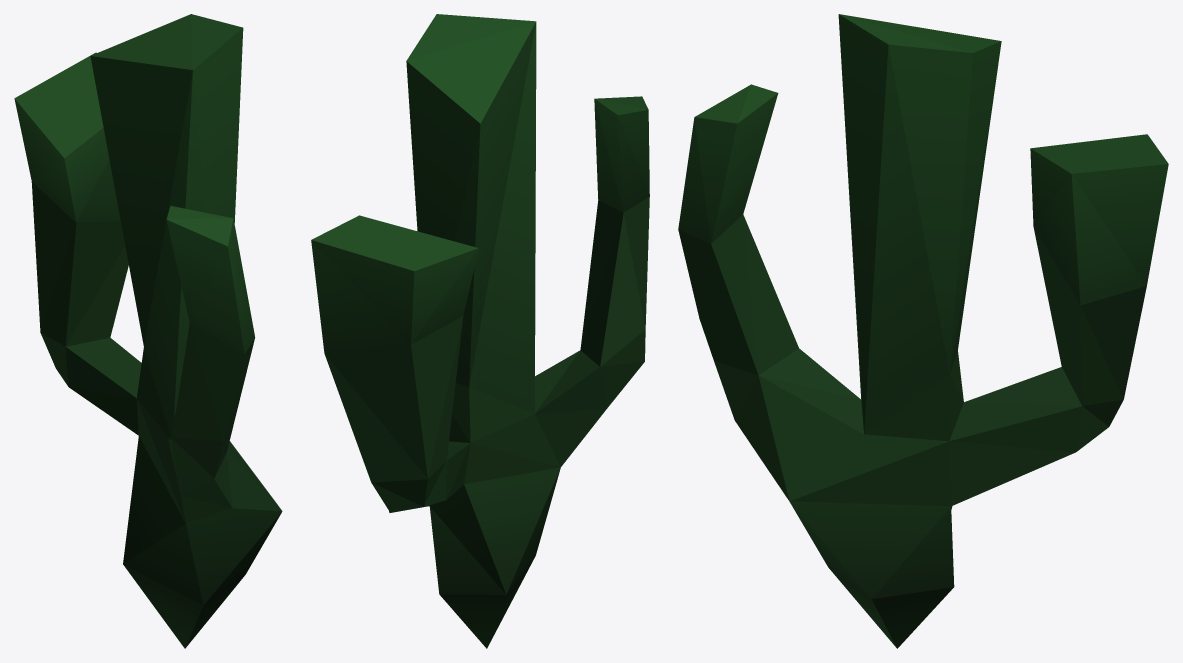
Rendered from c_cacti_ac.fbx.
3 views of the same model, side by side, from view 1: azimuth 30°, elevation 25°; view 2: azimuth 150°, elevation 25°; view 3: azimuth 270°, elevation 25° (orthographic). The views are drawn at different scales.
Parts seen in each view (by area): view 1: c_cacti_ac; view 2: c_cacti_ac; view 3: c_cacti_ac.
Boxes of the visible parts, x1,y1,x2,y2 form: c_cacti_ac: [14, 14, 282, 648]; c_cacti_ac: [311, 14, 649, 648]; c_cacti_ac: [678, 14, 1168, 648].
Bounding box in the file's own units: 0.6385 × 2.61 × 1.83.
